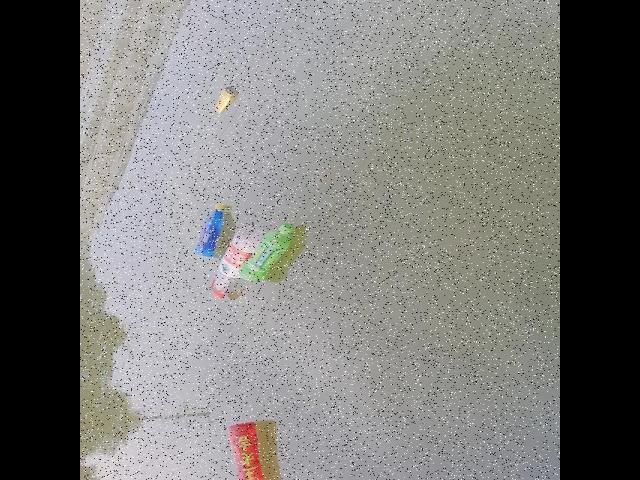Bottle: (232, 221, 302, 311), (202, 221, 254, 313), (220, 404, 280, 480), (186, 190, 226, 262)
Can: (208, 82, 238, 115)
